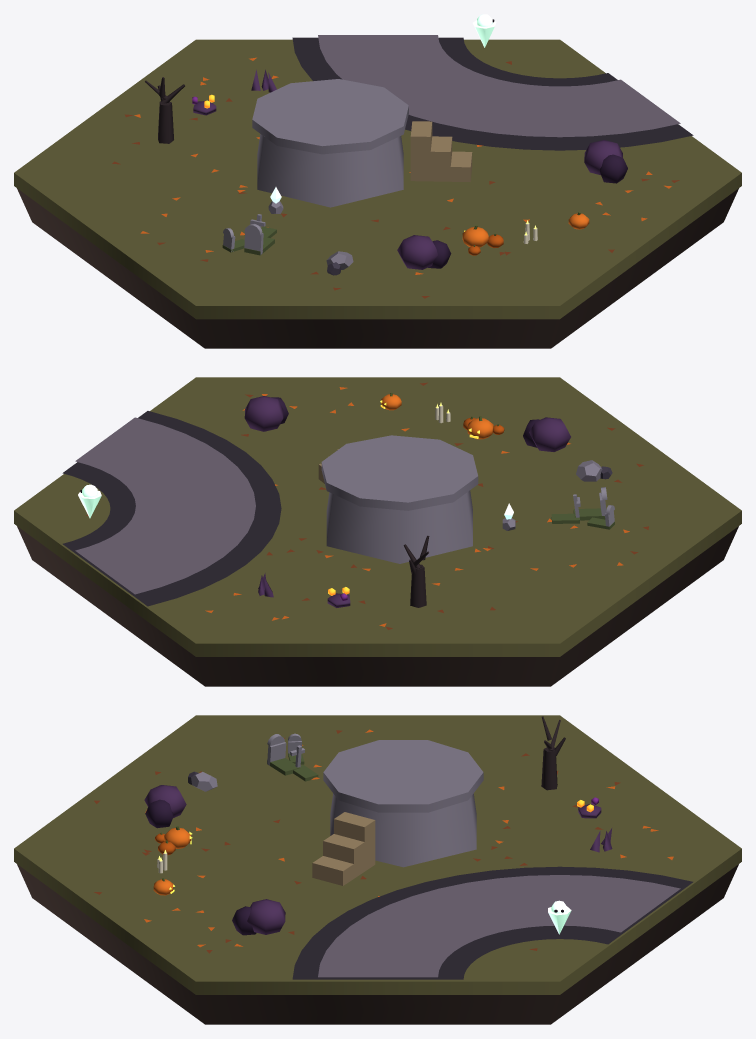
File: tile_frostBend.glb
The picture shows the model from 3 angles, top to bottom: view 1: azimuth 30°, elevation 25°; view 2: azimuth 150°, elevation 25°; view 3: azimuth 270°, elevation 25°; orthographic projection.
Visible parts, largest first — view 1: ground, road, ground_soil, tower_slot_1_plate, tower_slot_1_podest, tower_slot_1, deco_bush_5_a, deco_bush_0_a, deco_bush_0_b, deco_tree_3_trunk; view 2: ground, road, ground_soil, tower_slot_1_plate, tower_slot_1_podest, deco_bush_0_a, deco_bush_5_a, deco_tree_3_trunk; view 3: ground, road, ground_soil, tower_slot_1_plate, tower_slot_1_podest, tower_slot_1, deco_bush_0_a, deco_bush_5_a, deco_bush_5_b, deco_tree_3_trunk.
Boxes of the visible parts, box(x1,y1,x2,y2) form: ground: box(14, 39, 741, 319); road: box(292, 35, 693, 150); ground_soil: box(17, 188, 738, 348); tower_slot_1_plate: box(252, 79, 408, 154); tower_slot_1_podest: box(257, 134, 403, 207); tower_slot_1: box(410, 121, 472, 181); deco_bush_5_a: box(397, 235, 437, 269); deco_bush_0_a: box(584, 140, 622, 175); deco_bush_0_b: box(599, 154, 627, 183); deco_tree_3_trunk: box(158, 101, 173, 143); ground: box(14, 377, 741, 656); road: box(62, 411, 281, 606); ground_soil: box(17, 526, 738, 686); tower_slot_1_plate: box(321, 435, 478, 510); tower_slot_1_podest: box(326, 490, 472, 563); deco_bush_0_a: box(244, 396, 283, 431); deco_bush_5_a: box(529, 417, 570, 451); deco_tree_3_trunk: box(410, 564, 426, 607); ground: box(14, 715, 741, 994); road: box(292, 866, 692, 979); ground_soil: box(17, 864, 738, 1024); tower_slot_1_plate: box(323, 740, 483, 812); tower_slot_1_podest: box(330, 793, 476, 867); tower_slot_1: box(312, 812, 375, 885); deco_bush_0_a: box(247, 899, 285, 934); deco_bush_5_a: box(144, 785, 186, 817); deco_bush_5_b: box(145, 799, 173, 828); deco_tree_3_trunk: box(541, 747, 557, 790).
Bounding box in the file's own units: 1.73 × 0.3544 × 2.
